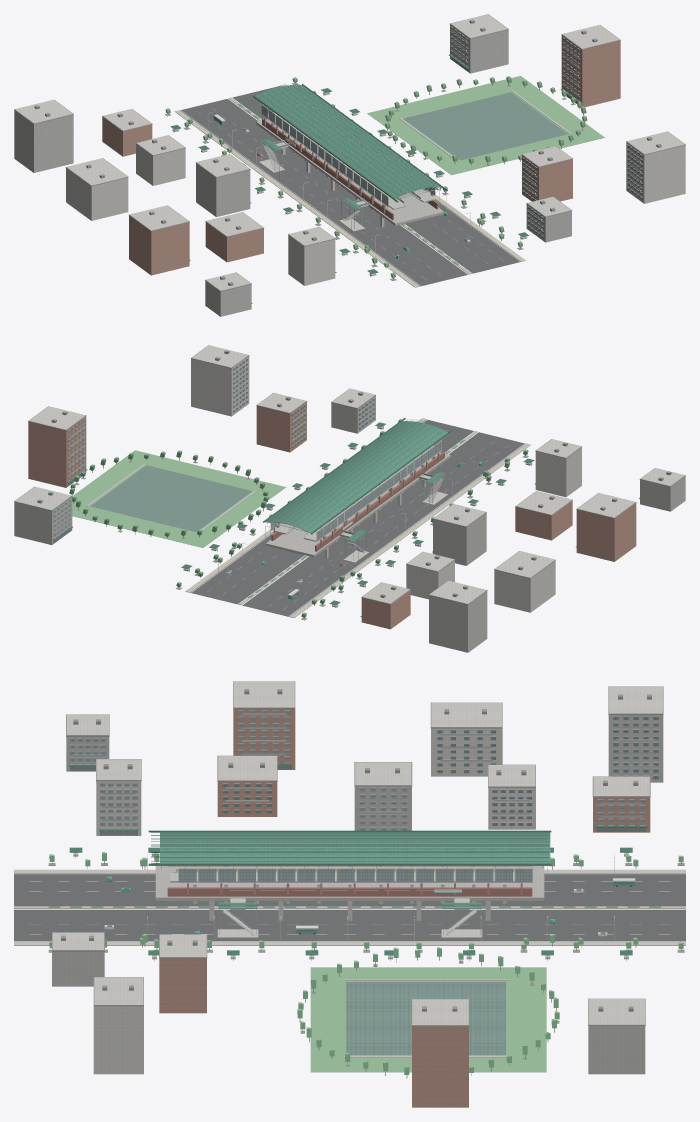
File: agargaon-station.gltf
The picture shows the model from 3 angles, top to bottom: view 1: azimuth 30°, elevation 25°; view 2: azimuth 150°, elevation 25°; view 3: azimuth 270°, elevation 25°; orthographic projection. The views are drawn at different scales.
Parts seen in each view (by area): view 1: Agargaon photoreferenced urban station – batched; view 2: Agargaon photoreferenced urban station – batched; view 3: Agargaon photoreferenced urban station – batched.
Boxes of the visible parts, bbox=[...] form: Agargaon photoreferenced urban station – batched: bbox=[14, 14, 685, 316]; Agargaon photoreferenced urban station – batched: bbox=[14, 345, 685, 652]; Agargaon photoreferenced urban station – batched: bbox=[14, 681, 685, 1107].
Size of the model in its own units: 361 by 39.56 by 282.
31 materials, 14 textured.
